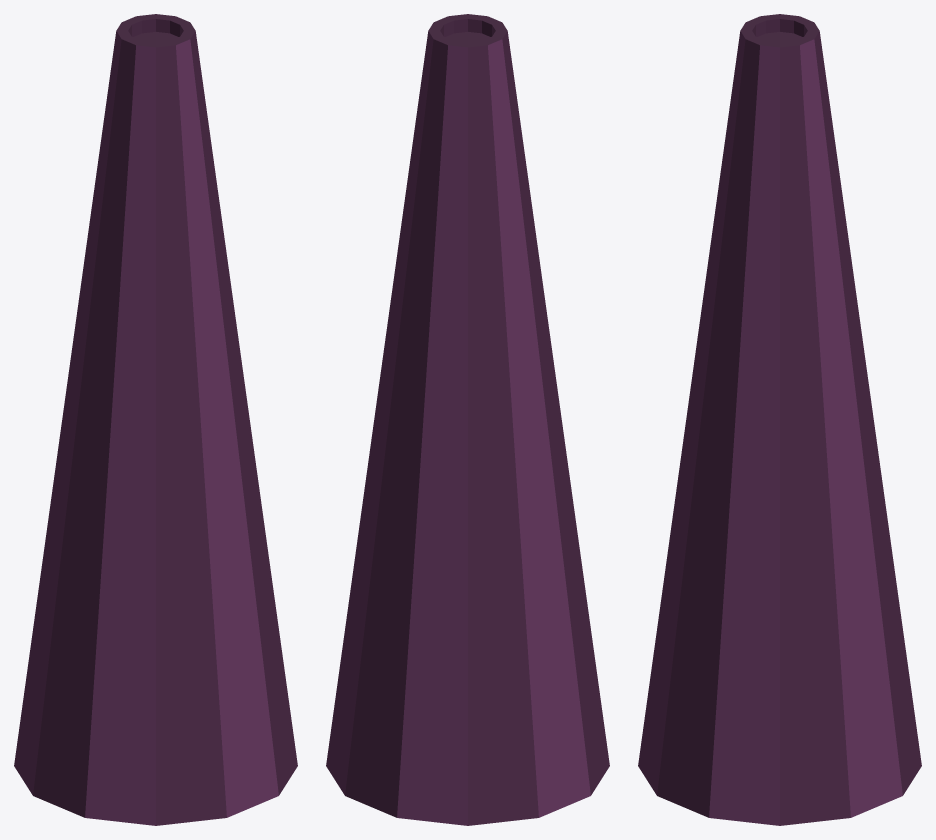
Rendered from Laumania_Fountain_Sample01.fbx.
3 views of the same model, side by side, from view 1: azimuth 30°, elevation 25°; view 2: azimuth 150°, elevation 25°; view 3: azimuth 270°, elevation 25° (orthographic).
Parts seen in each view (by area): view 1: Laumania_Fountain_Sample01 1; view 2: Laumania_Fountain_Sample01 1; view 3: Laumania_Fountain_Sample01 1.
Boxes of the visible parts, <box> form: Laumania_Fountain_Sample01 1: <box>14,14,297,825</box>; Laumania_Fountain_Sample01 1: <box>326,14,609,825</box>; Laumania_Fountain_Sample01 1: <box>638,14,921,825</box>.
Bounding box in the file's own units: 0.14 × 0.4 × 0.14.
